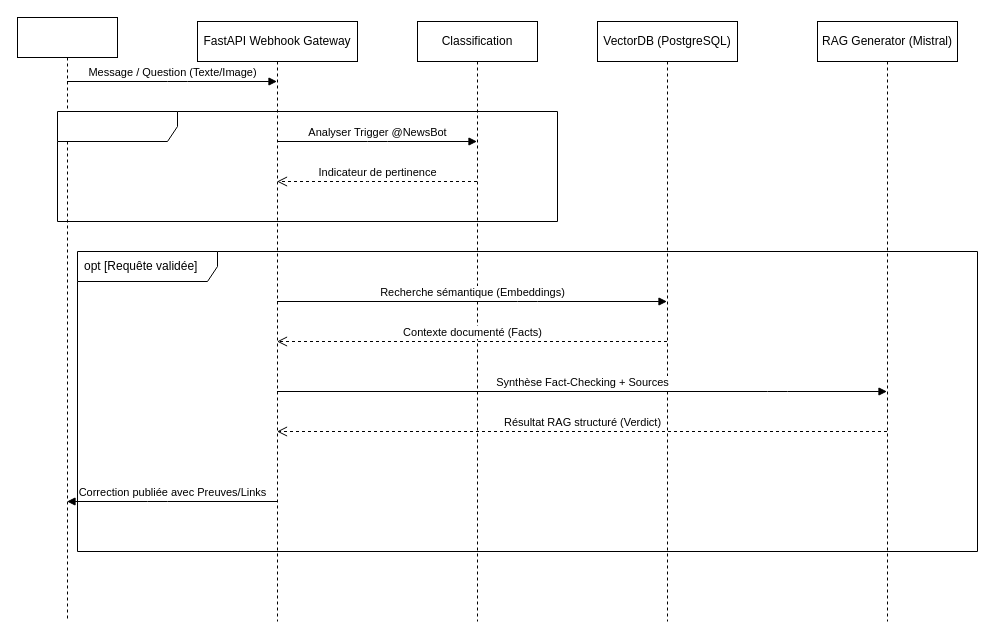
Some shapes in this 995 by 639 pixel diagram are drawn without their labels. Each missing label, with the centre of its shape:
"alt [Si Groupe]" belongs at (307,166).
"Utilisateur (Web/Group)" belongs at (67,319).
